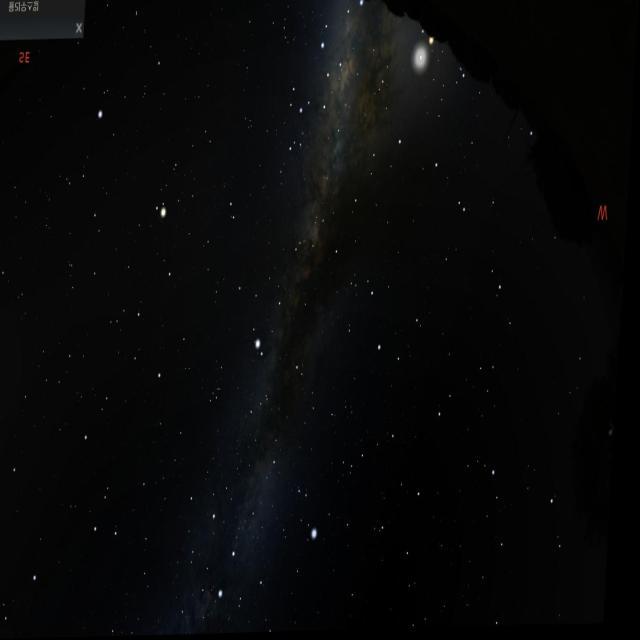aquila: (232, 222, 316, 363)
cygnus: (211, 433, 289, 614)
lyra: (283, 474, 337, 548)
moon: (402, 38, 446, 97)
sagittarius: (286, 19, 353, 148)
